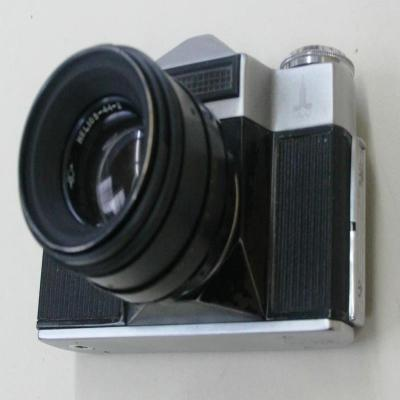technique: (17, 34, 366, 355)
